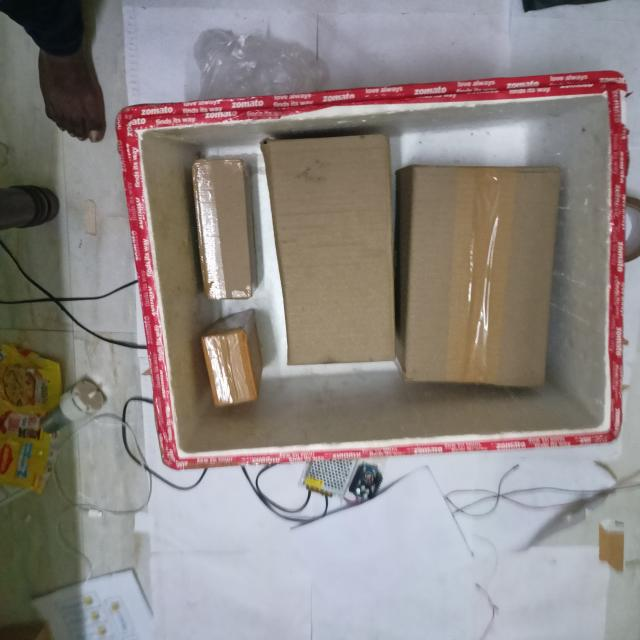box: (413, 164, 560, 386), (265, 138, 395, 364), (193, 163, 251, 301), (202, 339, 260, 414)
